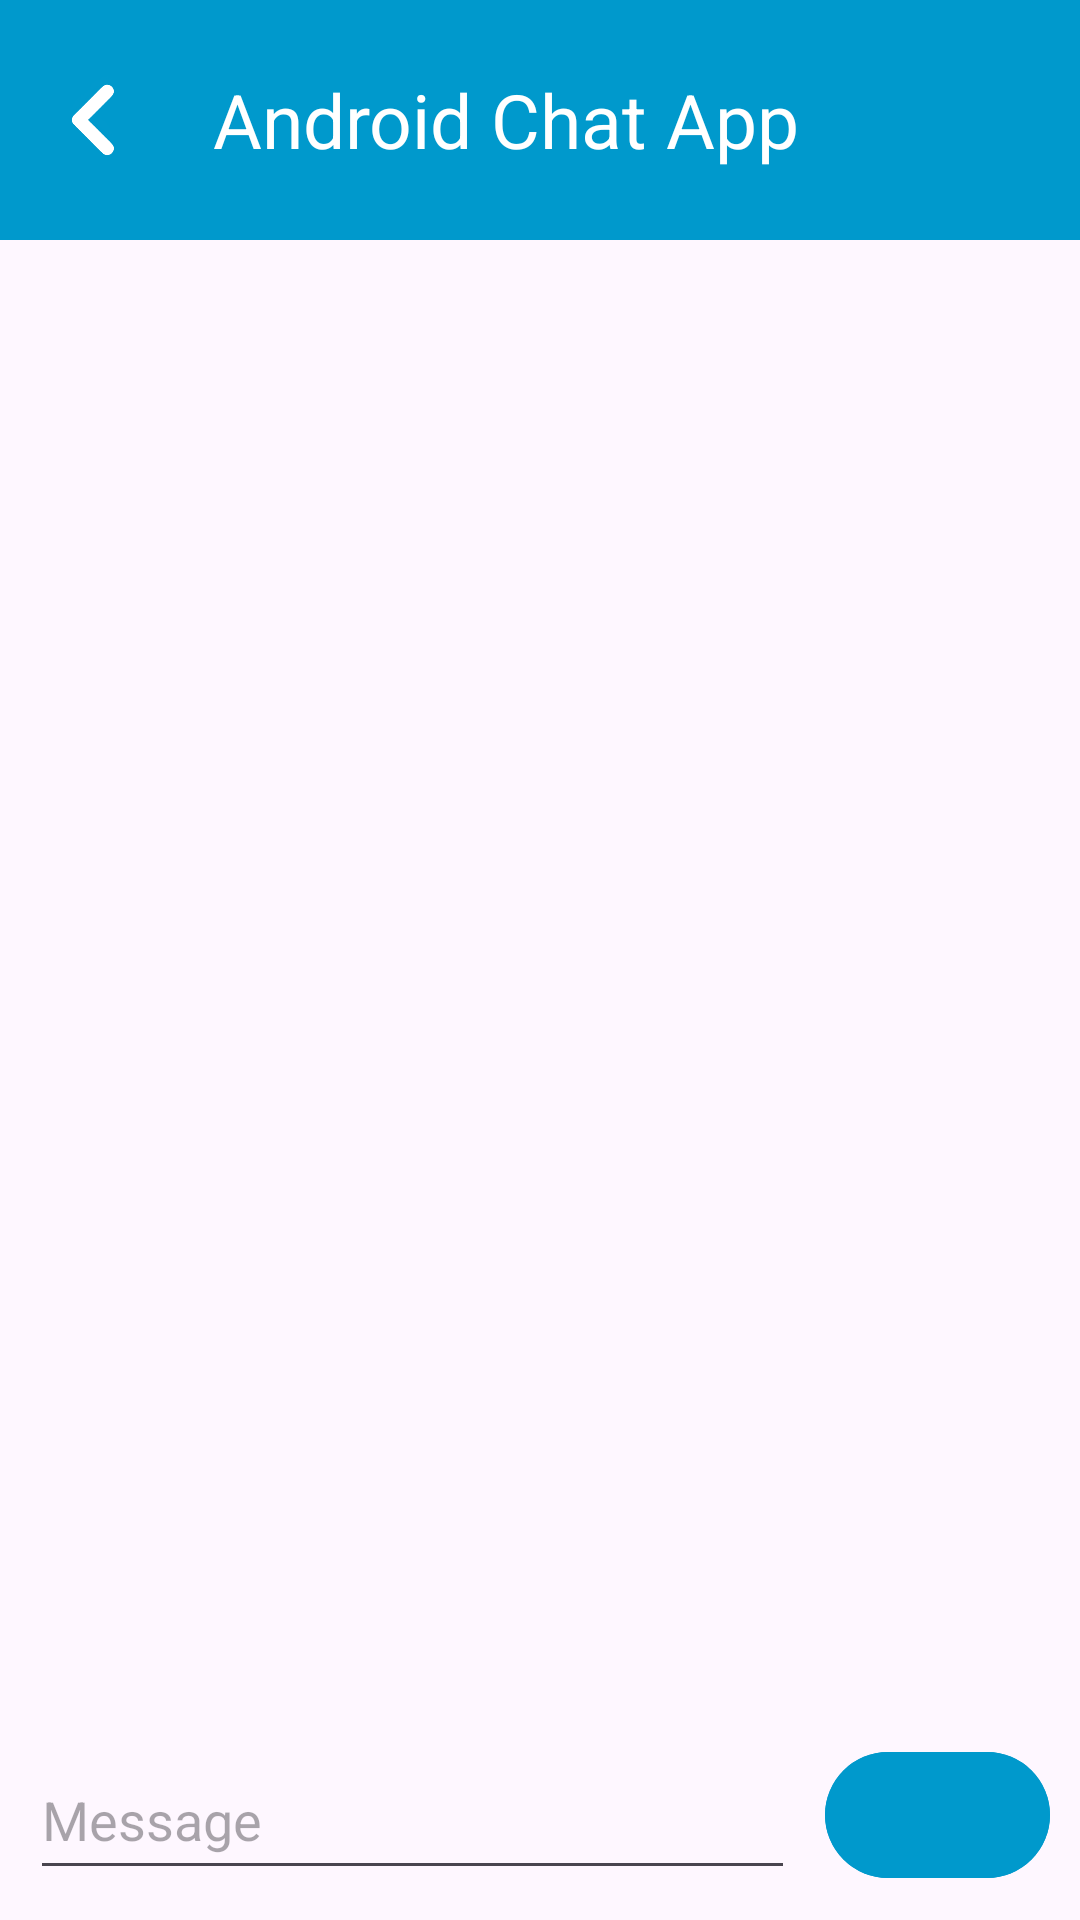

Icons on this 1080*1920 Android screen, each with the point to tap as [x,y]:
back: [93,119]
